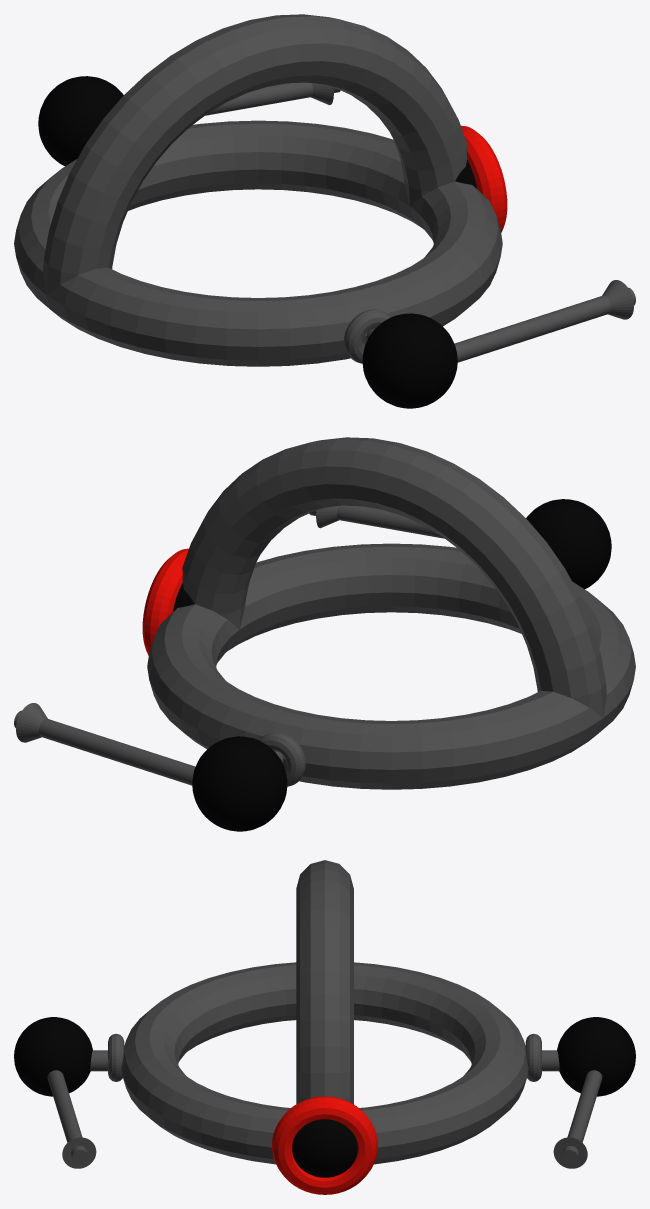
Rendered from Rüstung fürs game.fbx.
3 views of the same model, one above another, from view 1: azimuth 30°, elevation 25°; view 2: azimuth 150°, elevation 25°; view 3: azimuth 270°, elevation 25° (orthographic). The views are drawn at different scales.
Parts seen in each view (by area): view 1: Cylinder.003, Mball; view 2: Cylinder.003, Mball; view 3: Cylinder.003, Mball.
Part boxes in pixels (<box>): Cylinder.003: <box>14,14,635,366</box>; Mball: <box>38,76,476,408</box>; Cylinder.003: <box>14,437,635,789</box>; Mball: <box>173,499,611,831</box>; Cylinder.003: <box>47,860,602,1194</box>; Mball: <box>14,1017,635,1177</box>.
Bounding box in the file's own units: 376 × 219 × 539.
